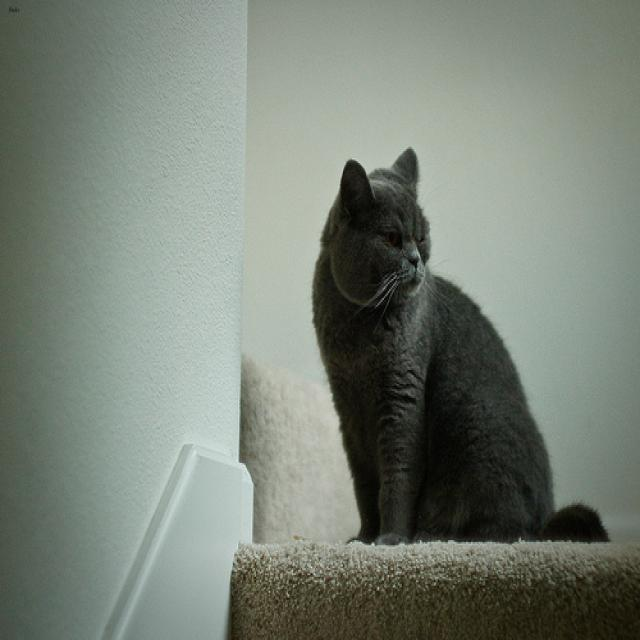British_Shorthair: (328, 146, 429, 304)
